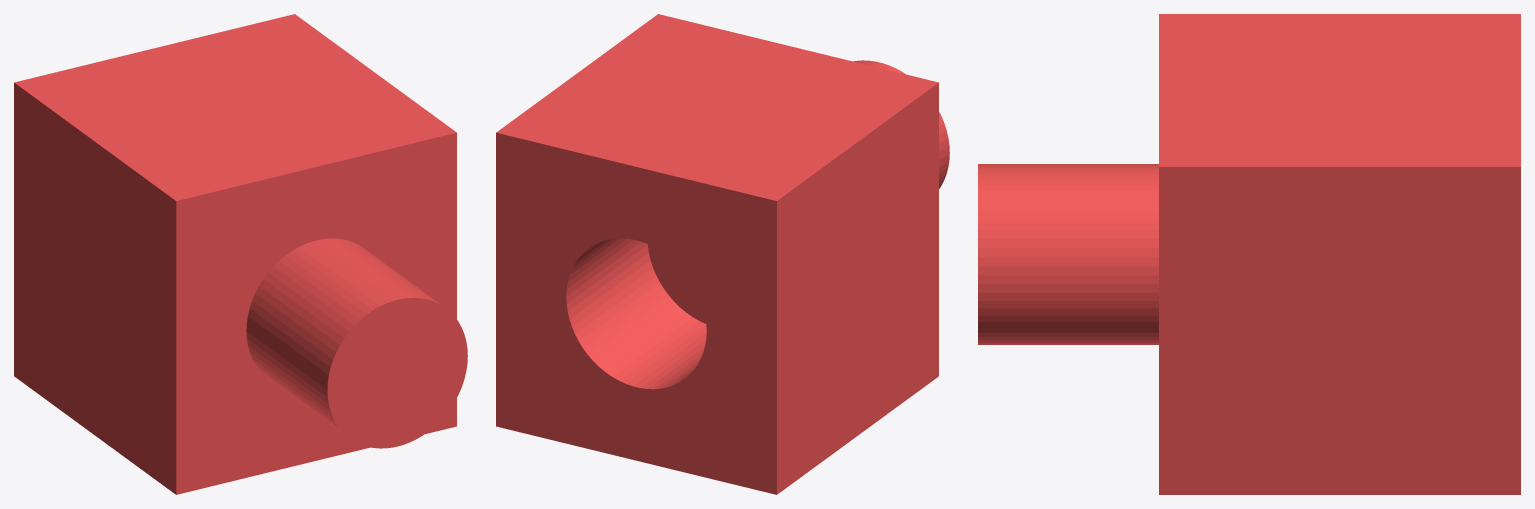
Rendered from sqplusstub.glb.
3 views of the same model, side by side, from view 1: azimuth 30°, elevation 25°; view 2: azimuth 150°, elevation 25°; view 3: azimuth 270°, elevation 25° (orthographic). The views are drawn at different scales.
Bounding box in the file's own units: 100 × 100 × 150.
